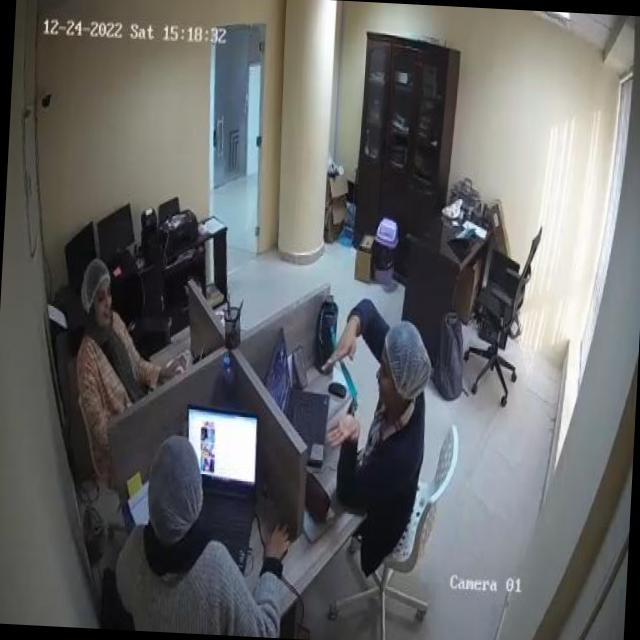hairnet: (148, 438, 208, 537), (384, 324, 428, 392), (80, 259, 112, 297)
